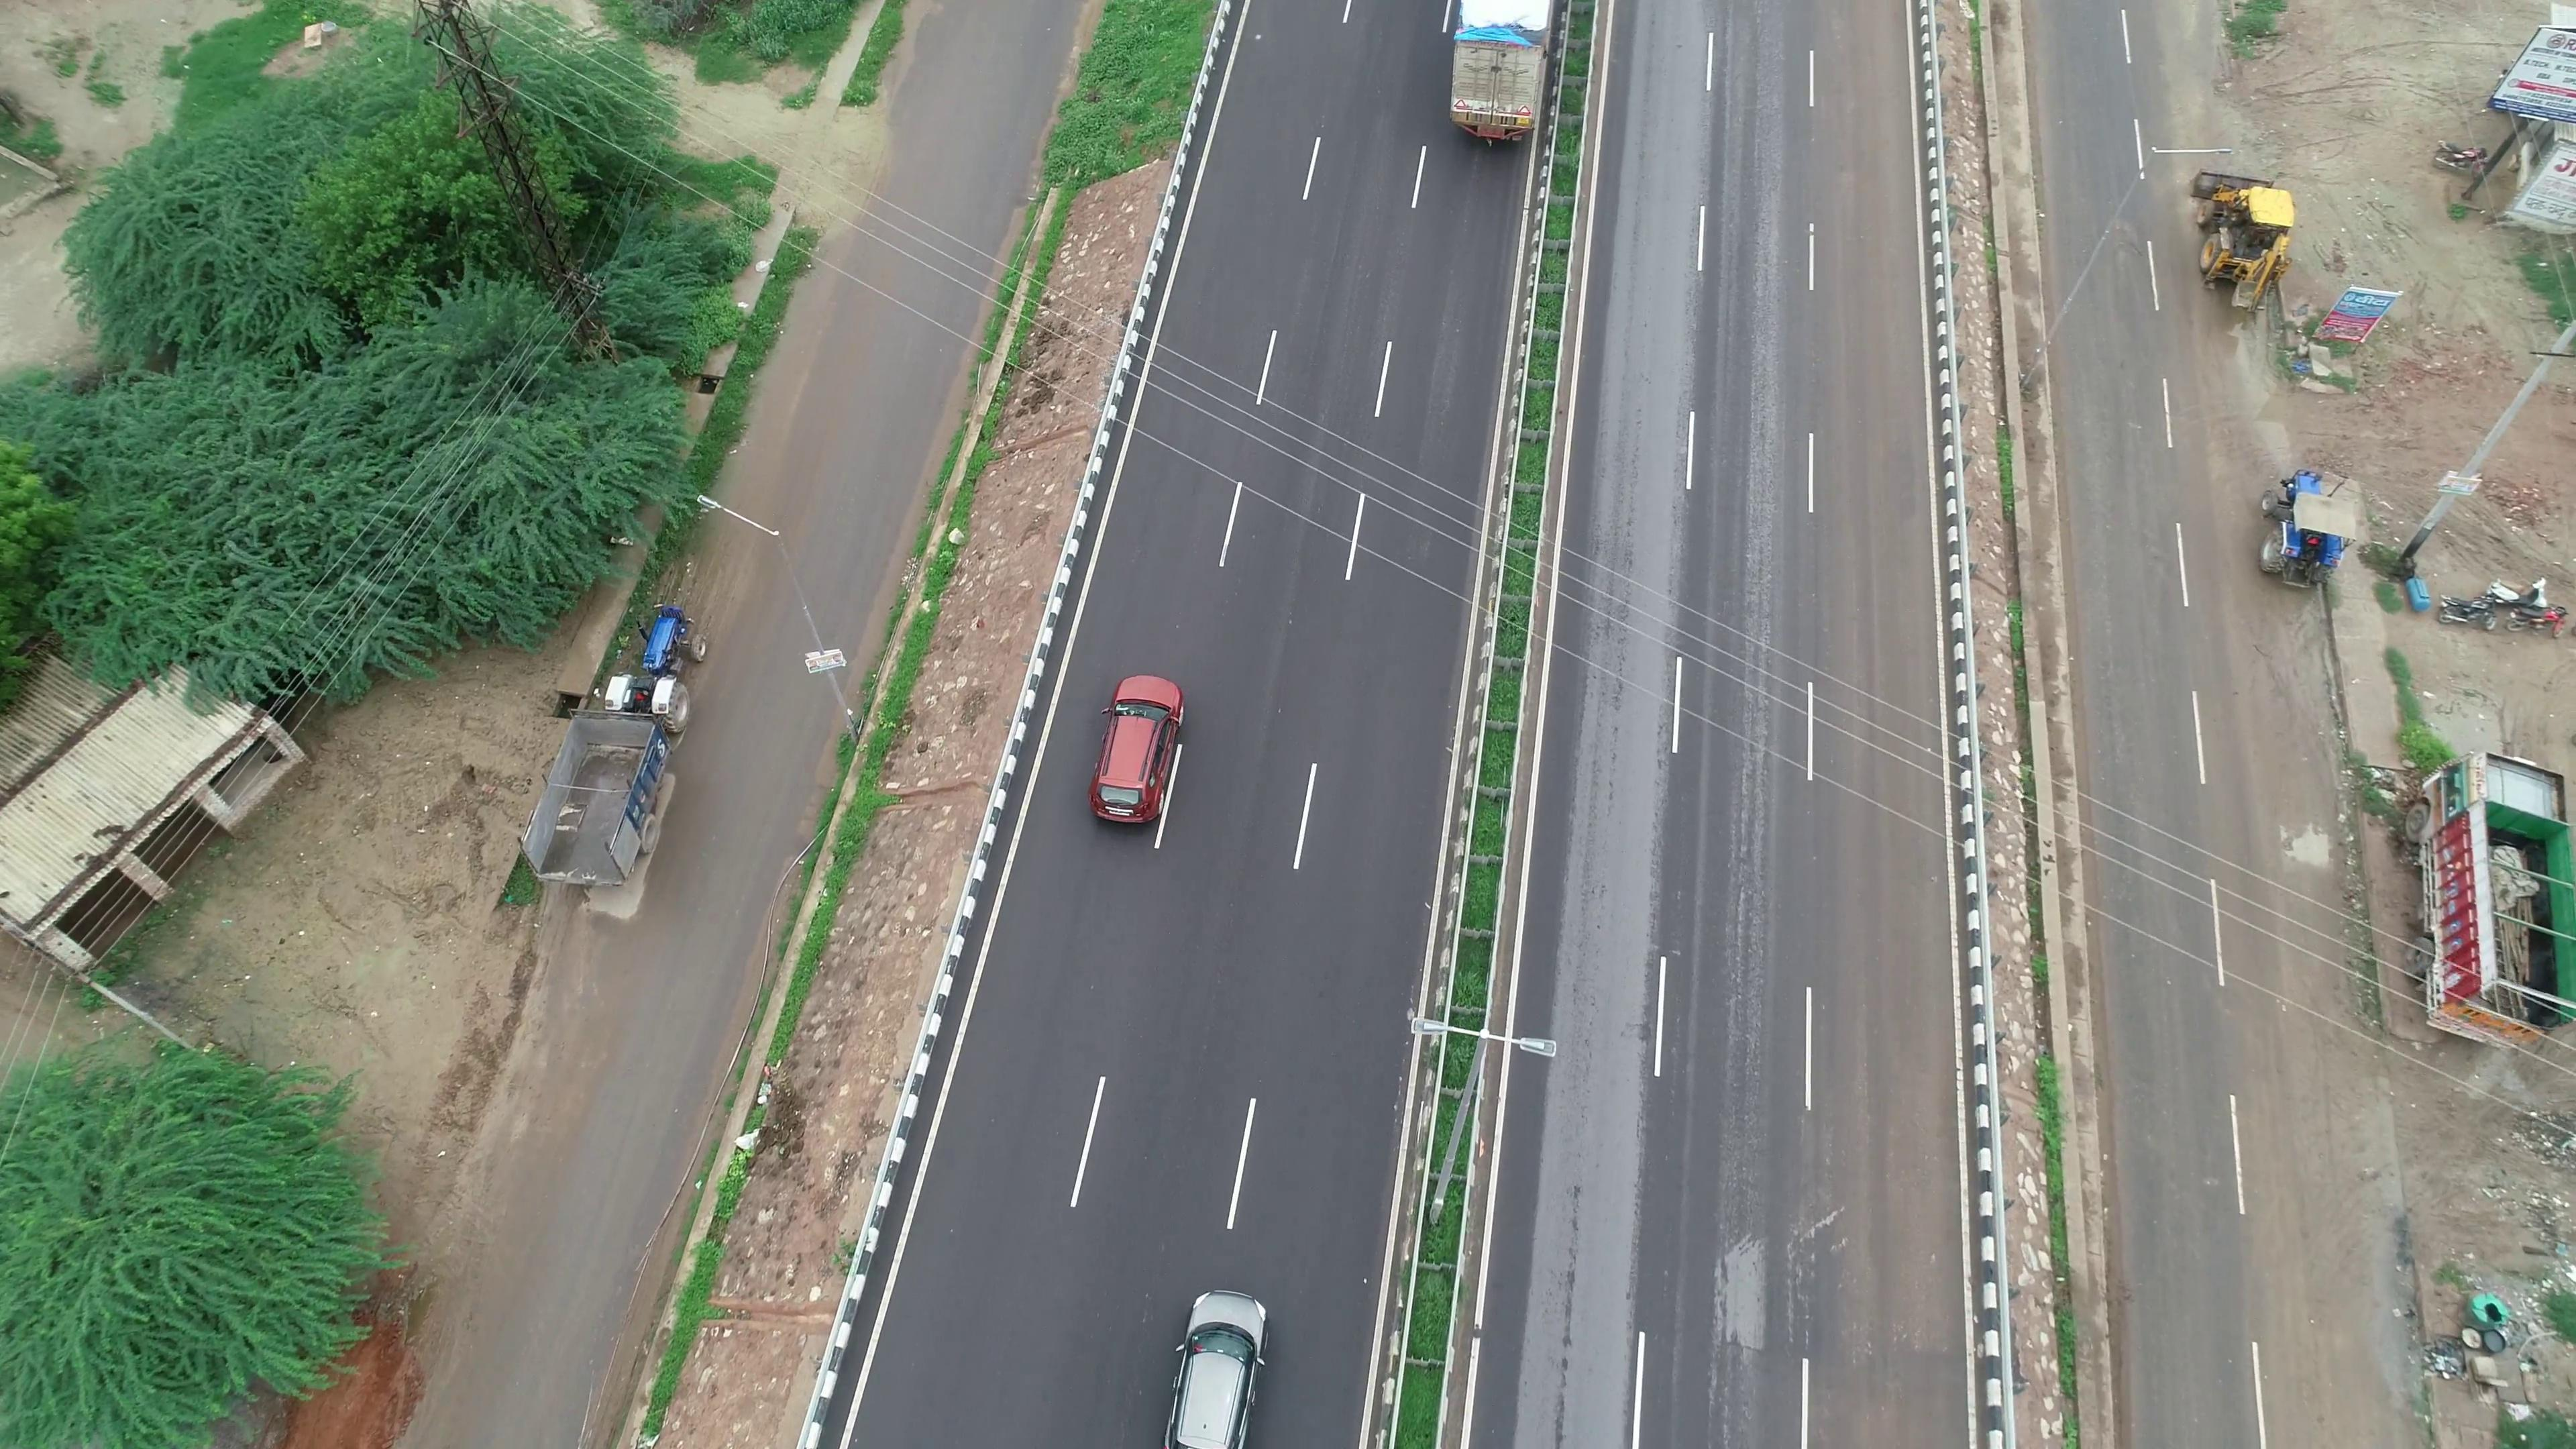Muddy_road: (1813, 856, 1948, 1318), (1829, 191, 1936, 715)
